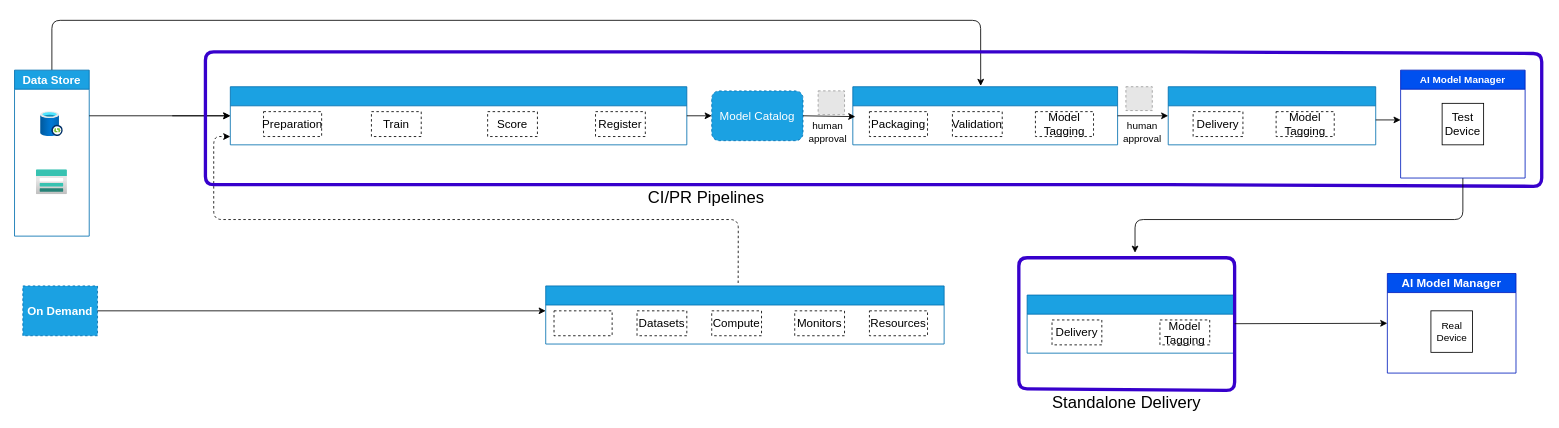
The diagram is 1559 pixels wide and 428 high, and some of its shapes have lost their labels. Grey dashed boxes stand in for pictures. The box of each missing label's shape, as (x1, y1, x2, y2) in pixels:
Infra Setup and management: (545, 285, 944, 344)
Model Delivery: (1167, 86, 1376, 145)
Model Development: (229, 86, 687, 145)
Model submission: (1026, 294, 1235, 353)
Model Validation and Packaging: (852, 86, 1118, 145)
Workspace: (553, 310, 612, 336)
